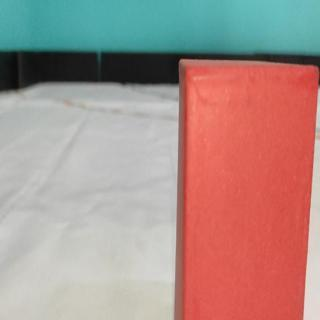redbox: (185, 60, 307, 320)
